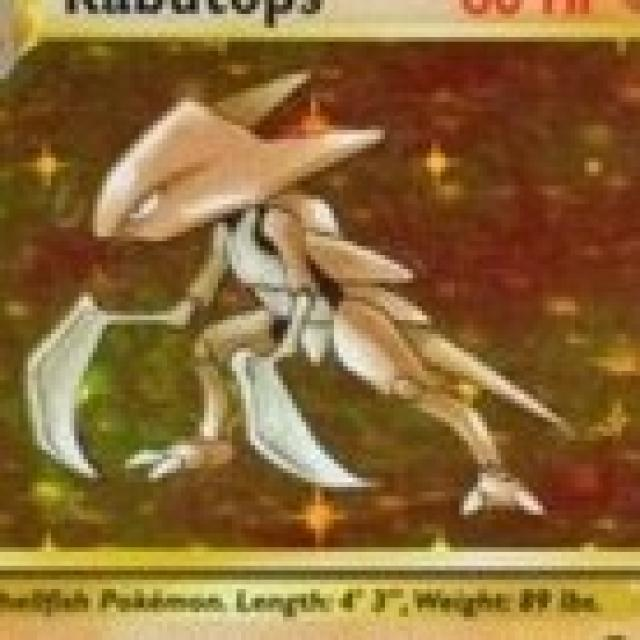Kabutops: (26, 89, 416, 485)
